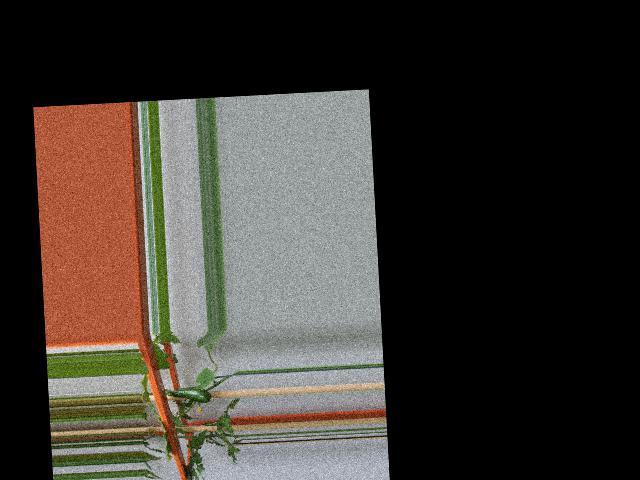cucumber: (172, 385, 215, 404)
